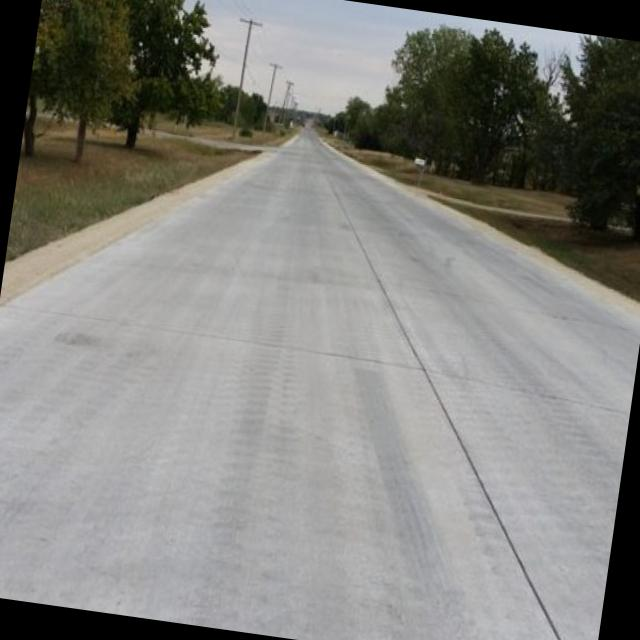cement: (0, 130, 640, 640)
grass: (5, 161, 217, 261)
